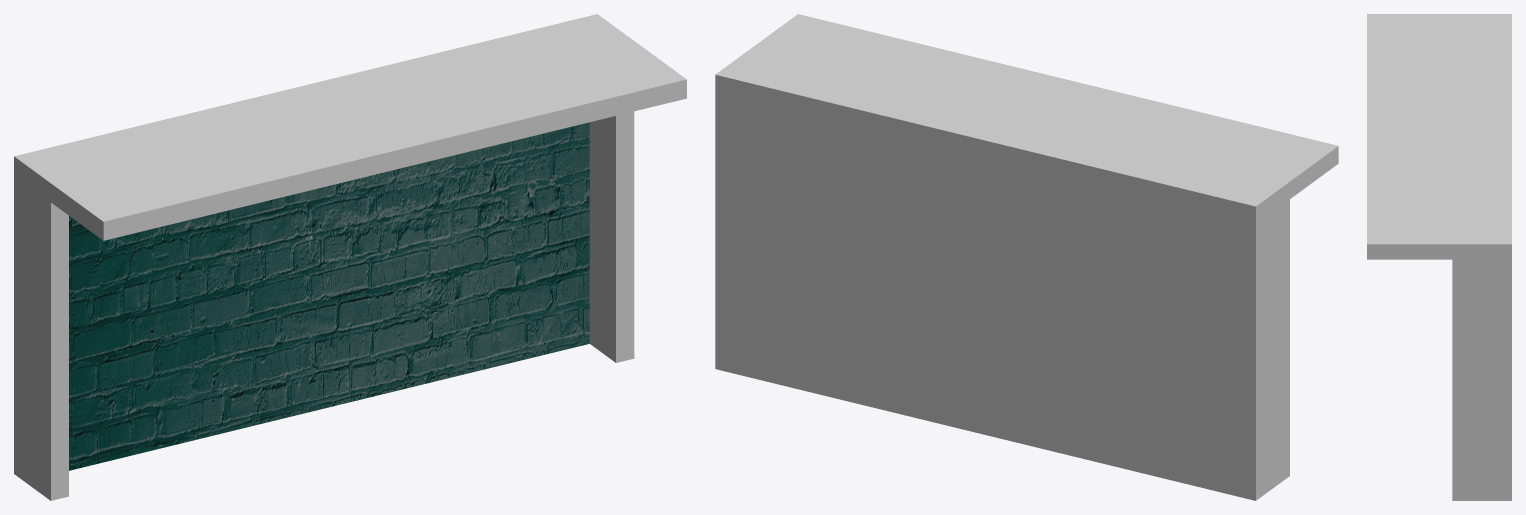
File: Display Panels.fbx
3 views of the same model, side by side, from view 1: azimuth 30°, elevation 25°; view 2: azimuth 150°, elevation 25°; view 3: azimuth 270°, elevation 25° (orthographic). The views are drawn at different scales.
Visible parts, largest first — view 1: Group1; view 2: Group1; view 3: Group1.
Boxes of the visible parts, bbox=[...] form: Group1: bbox=[14, 14, 686, 500]; Group1: bbox=[715, 14, 1338, 500]; Group1: bbox=[1367, 14, 1511, 500].
Bounding box in the file's own units: 6400 × 3330 × 1700.
